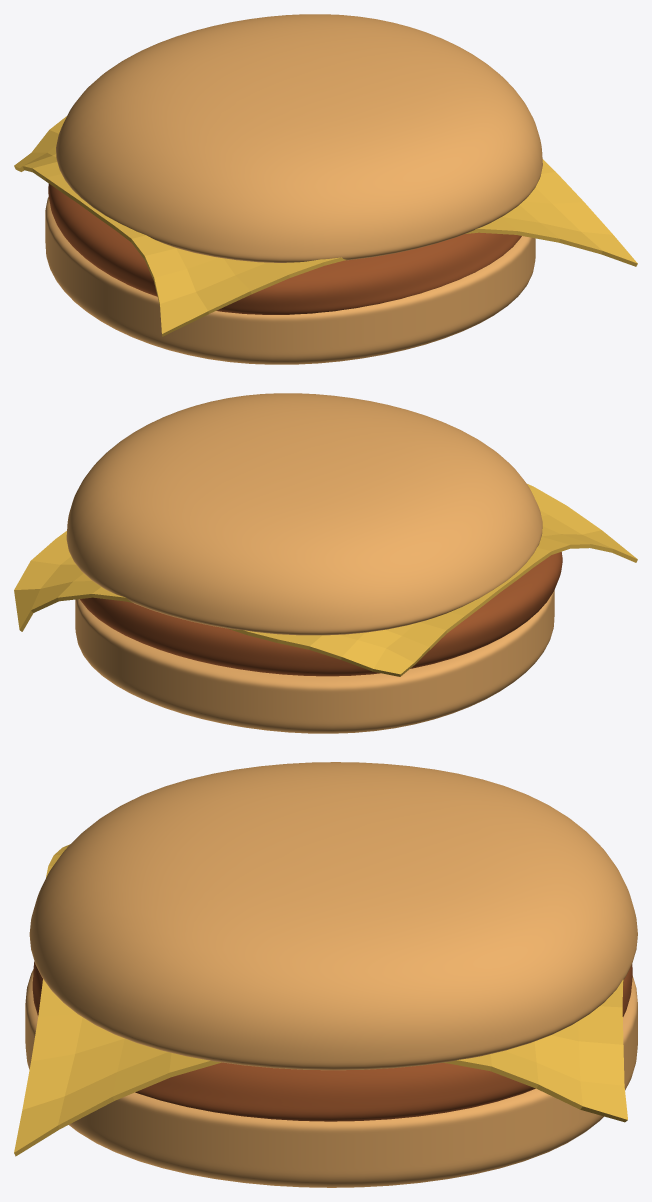
The model's file is hamburger.glb.
3 renders of one model, top to bottom at view 1: azimuth 30°, elevation 25°; view 2: azimuth 150°, elevation 25°; view 3: azimuth 270°, elevation 25°, orthographic. The views are drawn at different scales.
Parts seen in each view (by area): view 1: Cube.002, Cube, Plane, Cube.001; view 2: Cube.002, Cube, Cube.001, Plane; view 3: Cube.002, Cube, Plane, Cube.001.
Boxes of the visible parts, x1,y1,x2,y2 form: Cube.002: (56, 14, 542, 262); Cube: (45, 197, 535, 364); Plane: (14, 116, 637, 336); Cube.001: (48, 183, 521, 314); Cube.002: (66, 393, 542, 635); Cube: (75, 590, 554, 733); Cube.001: (80, 552, 562, 676); Plane: (14, 484, 637, 676); Cube.002: (29, 762, 637, 1070); Cube: (25, 969, 637, 1187); Plane: (14, 844, 627, 1156); Cube.001: (32, 961, 632, 1121).
Size of the model in its own units: 9.76 by 4.23 by 9.14.
